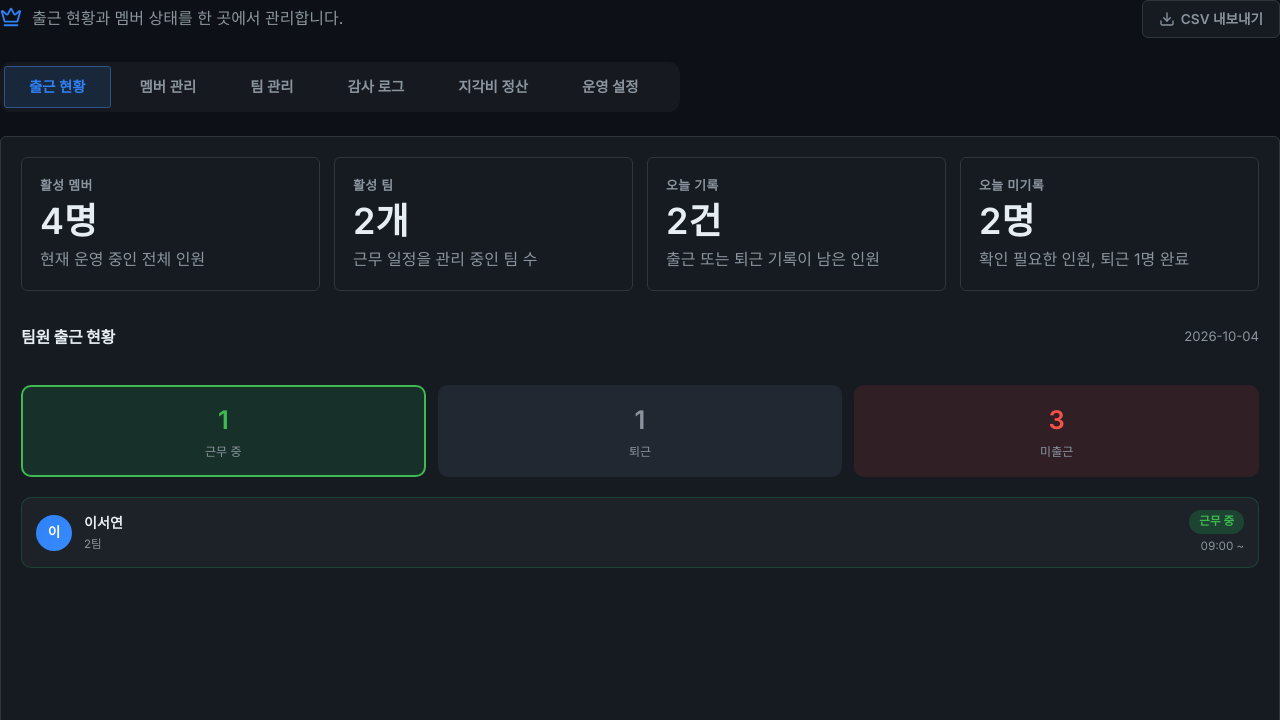
Admin 페이지 › 운영 설정 탭에서 자동 체크아웃 시간을 저장할 수 있다
Click the button "운영 설정".
click(610, 87)  # box [557,66,664,108]
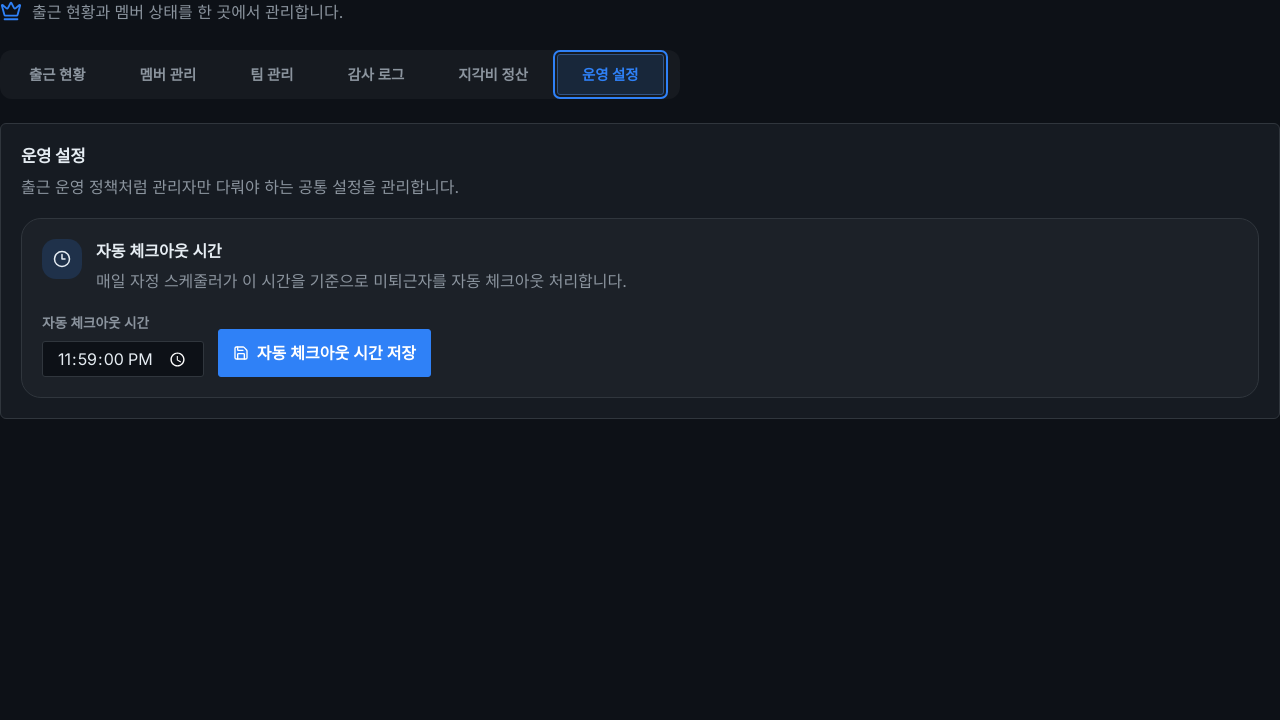
Now the time field showing "23:59" is shown
Replace the text in the time field named "자동 체크아웃 시간 입력" with "2200" at (123, 359), box [42,341,204,377]
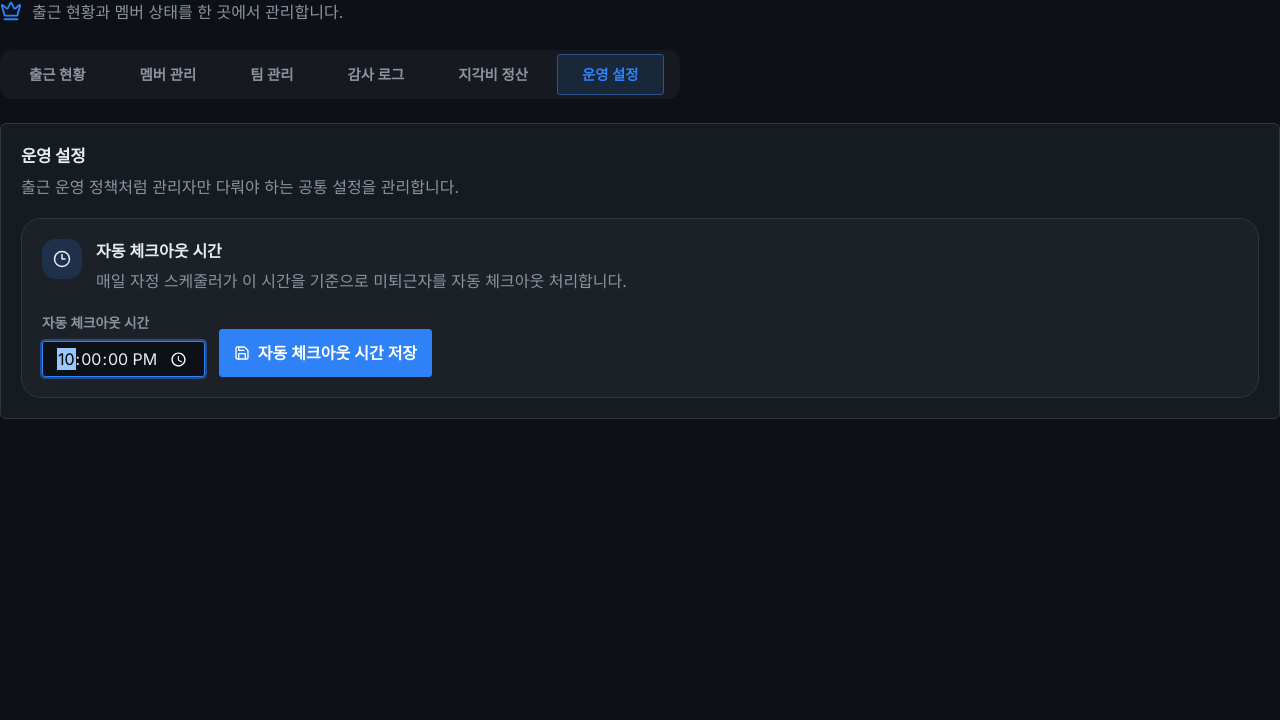
Click the button "자동 체크아웃 시간 저장".
click(325, 353)  # box [219,329,432,377]
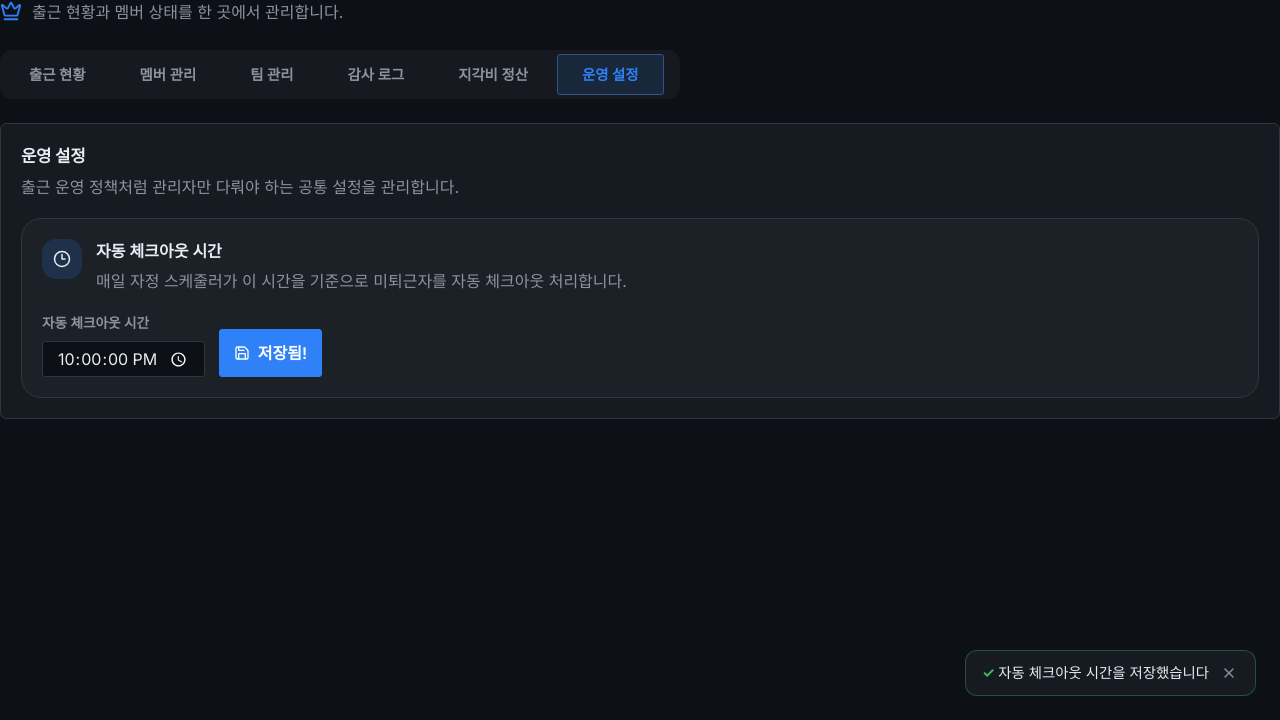
Now the time field showing "22:00" is shown, box [42,341,205,377]
Now the text "자동 체크아웃 시간을 저장했습니다" is shown, box [982,663,1209,683]
